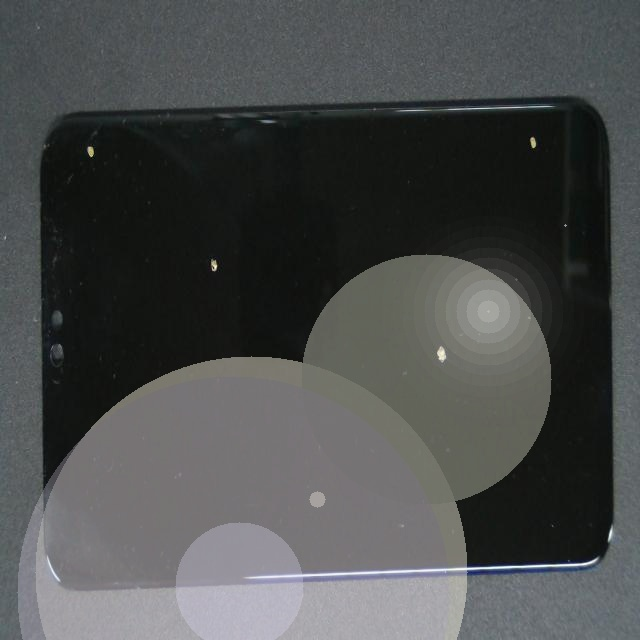stain: (250, 215, 640, 531), (262, 50, 640, 206), (138, 139, 342, 374), (66, 125, 163, 250)
